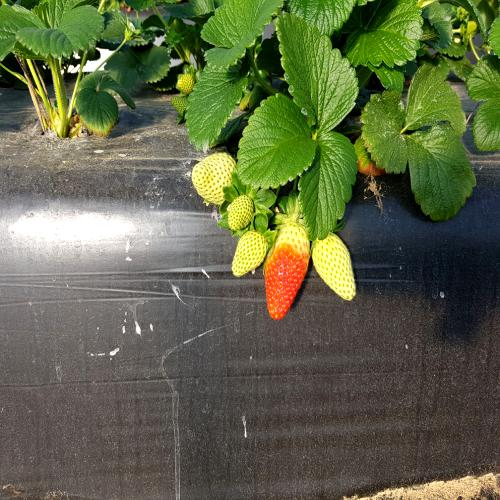partially-ripe: (261, 206, 314, 326)
